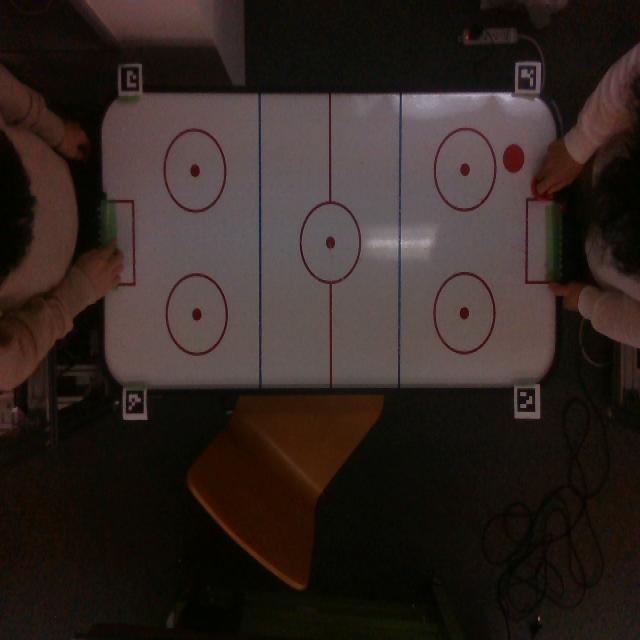puck: (503, 144, 525, 174)
